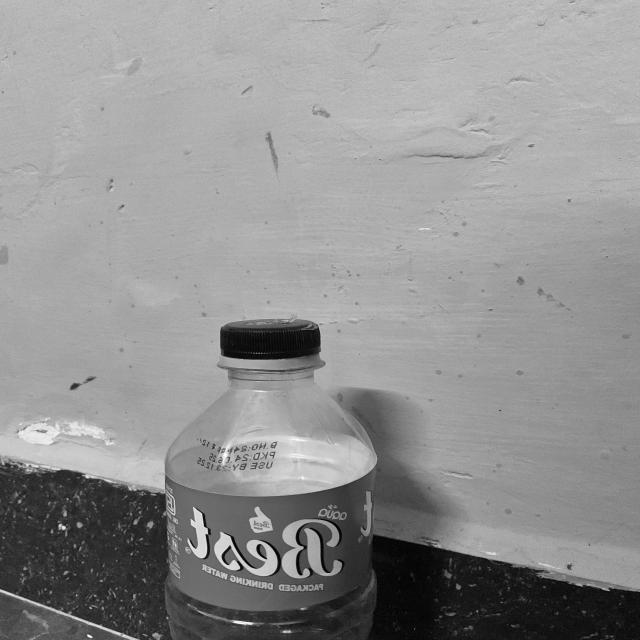Good-cap-Df0S: (215, 316, 326, 372)
